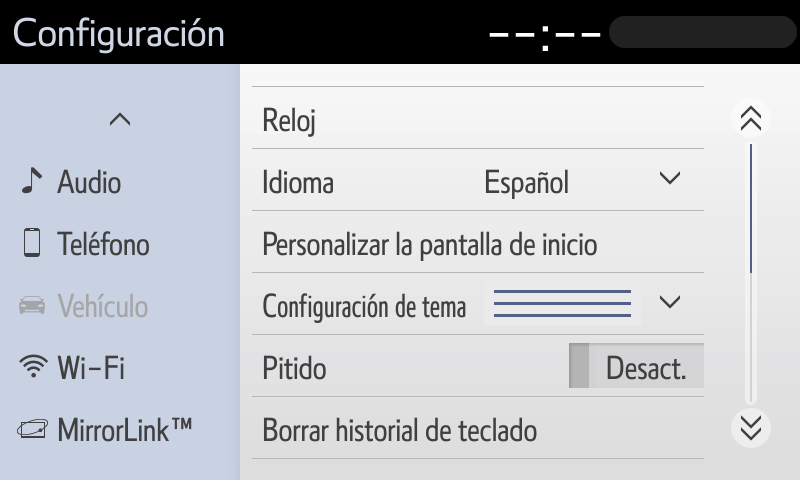touchPart: (246, 141, 721, 217), (252, 80, 721, 155), (248, 205, 711, 280), (248, 267, 709, 339), (247, 393, 712, 464), (250, 331, 713, 401), (9, 404, 200, 450), (14, 220, 163, 272), (17, 348, 142, 391), (21, 160, 129, 201), (730, 405, 784, 452), (729, 101, 769, 138), (99, 107, 141, 133)
untouchPart: (480, 9, 797, 56), (12, 9, 224, 50), (12, 284, 158, 325)
